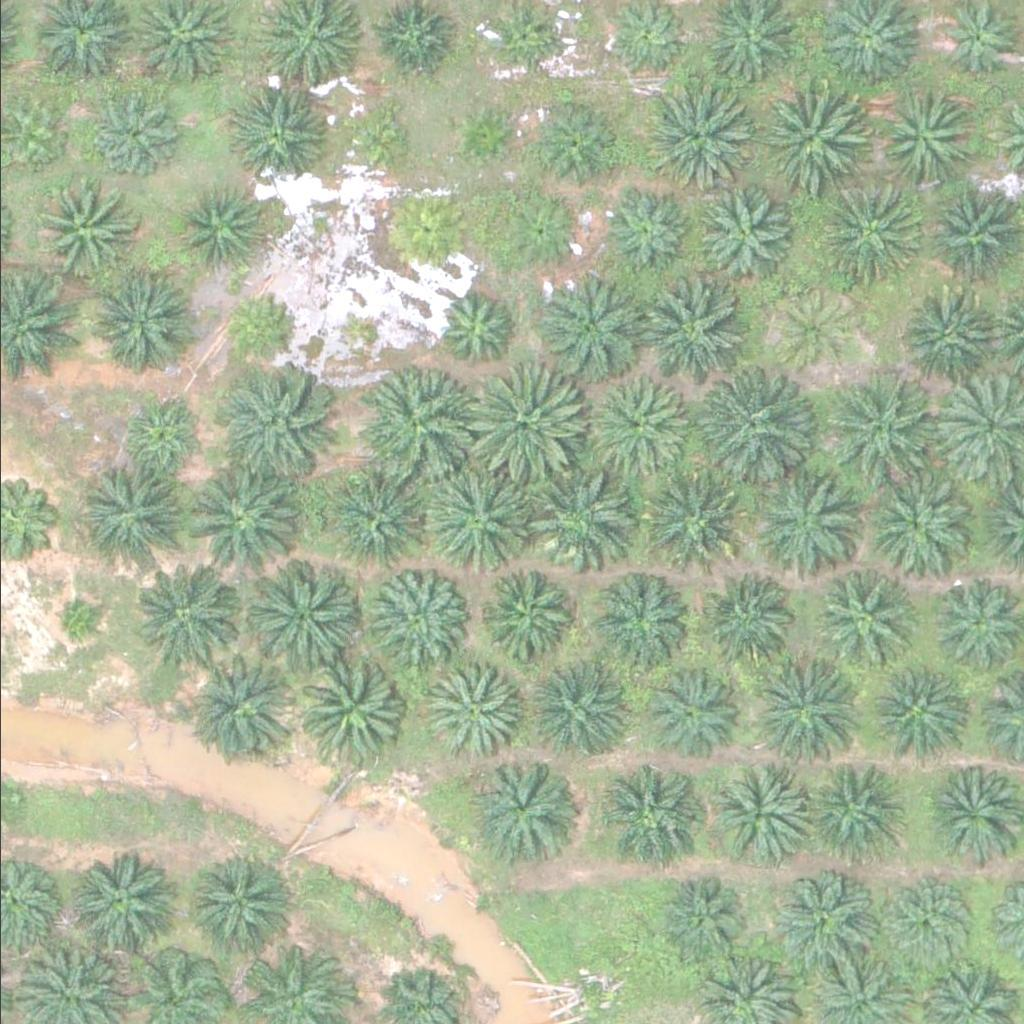Kelapa_Sawit: (819, 368, 933, 481), (244, 556, 357, 669), (127, 553, 240, 666), (363, 371, 476, 484), (215, 368, 328, 481), (527, 461, 640, 574), (694, 368, 807, 481), (641, 78, 754, 191), (753, 79, 866, 192), (184, 460, 298, 572), (425, 464, 539, 576), (473, 366, 587, 478), (292, 652, 405, 764), (184, 649, 297, 761), (75, 465, 188, 577), (749, 656, 862, 768), (811, 177, 924, 289), (628, 275, 741, 387), (535, 270, 648, 382), (919, 767, 1020, 867), (225, 79, 326, 179), (32, 178, 133, 278), (93, 275, 194, 375), (65, 853, 166, 953), (191, 859, 292, 959), (467, 756, 568, 856), (418, 663, 519, 763), (473, 561, 574, 661), (365, 568, 466, 668), (778, 875, 879, 975), (709, 759, 810, 859), (797, 759, 898, 859), (865, 663, 966, 763), (585, 377, 686, 477), (691, 182, 792, 282), (872, 86, 973, 186), (517, 661, 617, 761), (328, 475, 428, 575), (600, 765, 700, 865), (641, 661, 741, 761), (596, 573, 696, 673), (816, 565, 916, 665), (700, 570, 800, 670), (867, 476, 967, 576), (750, 476, 850, 576), (637, 468, 737, 568), (897, 278, 997, 378), (383, 186, 472, 274), (885, 880, 974, 968), (114, 392, 202, 480), (497, 186, 585, 274), (766, 287, 854, 375), (600, 188, 689, 275), (933, 579, 1021, 666), (93, 91, 181, 178), (173, 185, 261, 272), (429, 282, 517, 369), (660, 876, 748, 963), (527, 97, 615, 184), (224, 289, 300, 364), (447, 97, 523, 172), (339, 101, 415, 176), (477, 3, 552, 78), (44, 594, 94, 644)
